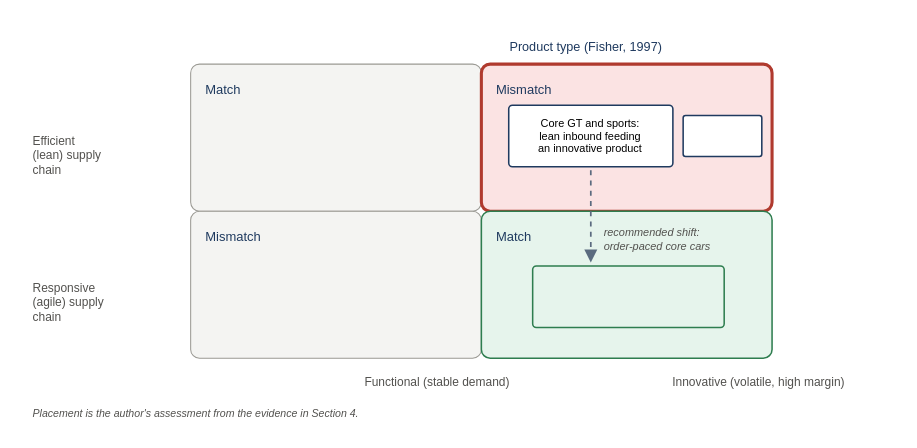
Some shapes in this 917 by 448 pixel diagram are drawn without their labels. Each missing label, with the centre of its shape:
"DBX: line flow" goes at [722,135].
"Specials: pre-sold, CODP at engineering, deposit-financed" goes at [627,295].
